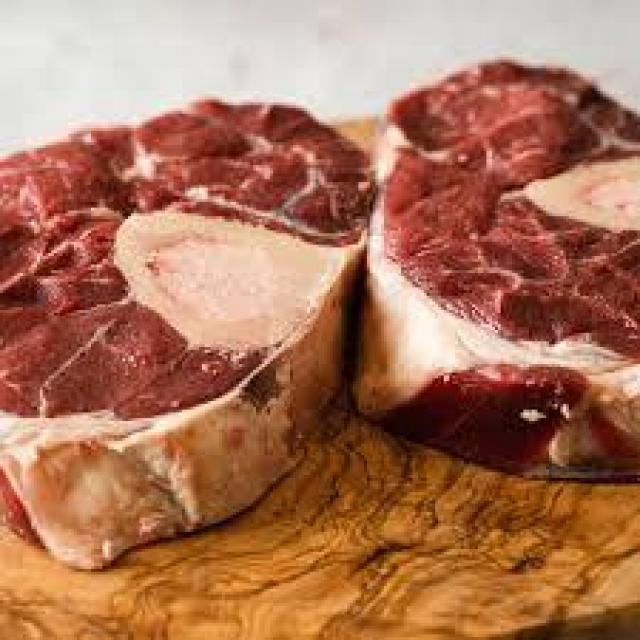Beef: (0, 76, 372, 569)
